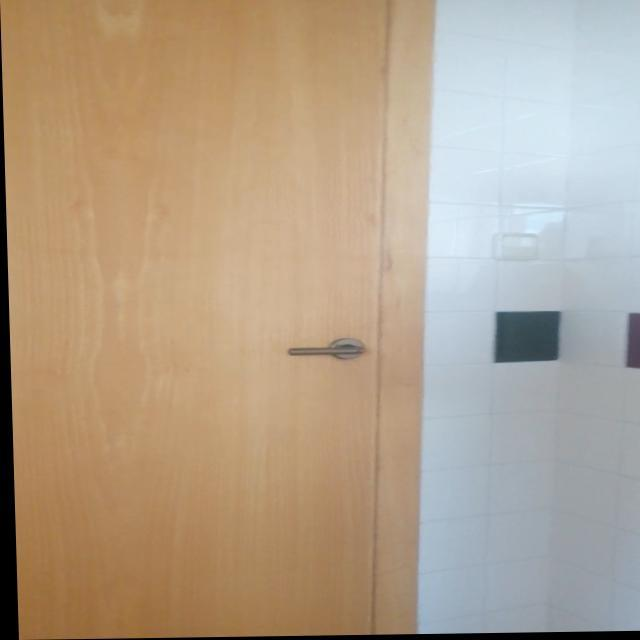door_handle: (282, 345, 365, 358)
